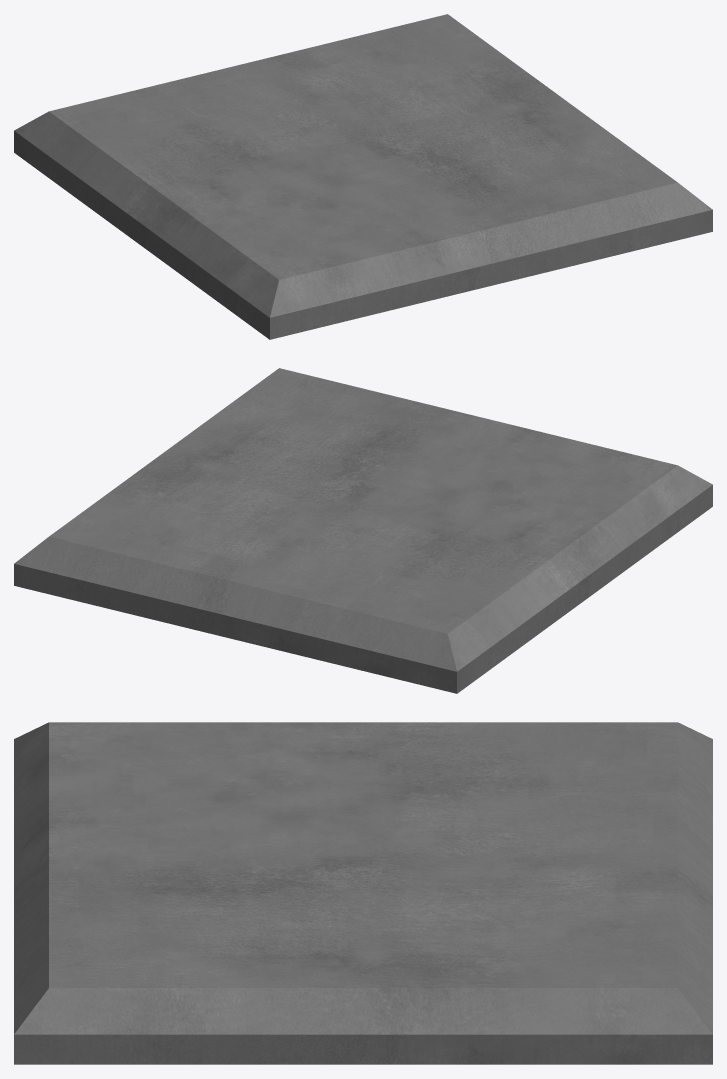
Rendered from pressure_plate_concrete.fbx.
3 views of the same model, one above another, from view 1: azimuth 30°, elevation 25°; view 2: azimuth 150°, elevation 25°; view 3: azimuth 270°, elevation 25° (orthographic). The views are drawn at different scales.
Visible parts, largest first — view 1: Cube; view 2: Cube; view 3: Cube.
Part boxes in pixels (x1,y1,x2,y2): Cube: (14, 14, 712, 339); Cube: (14, 368, 712, 693); Cube: (14, 722, 712, 1064).
Bounding box in the file's own units: 100 × 9.75 × 100.
Materials: 1 (1 with a texture image).
